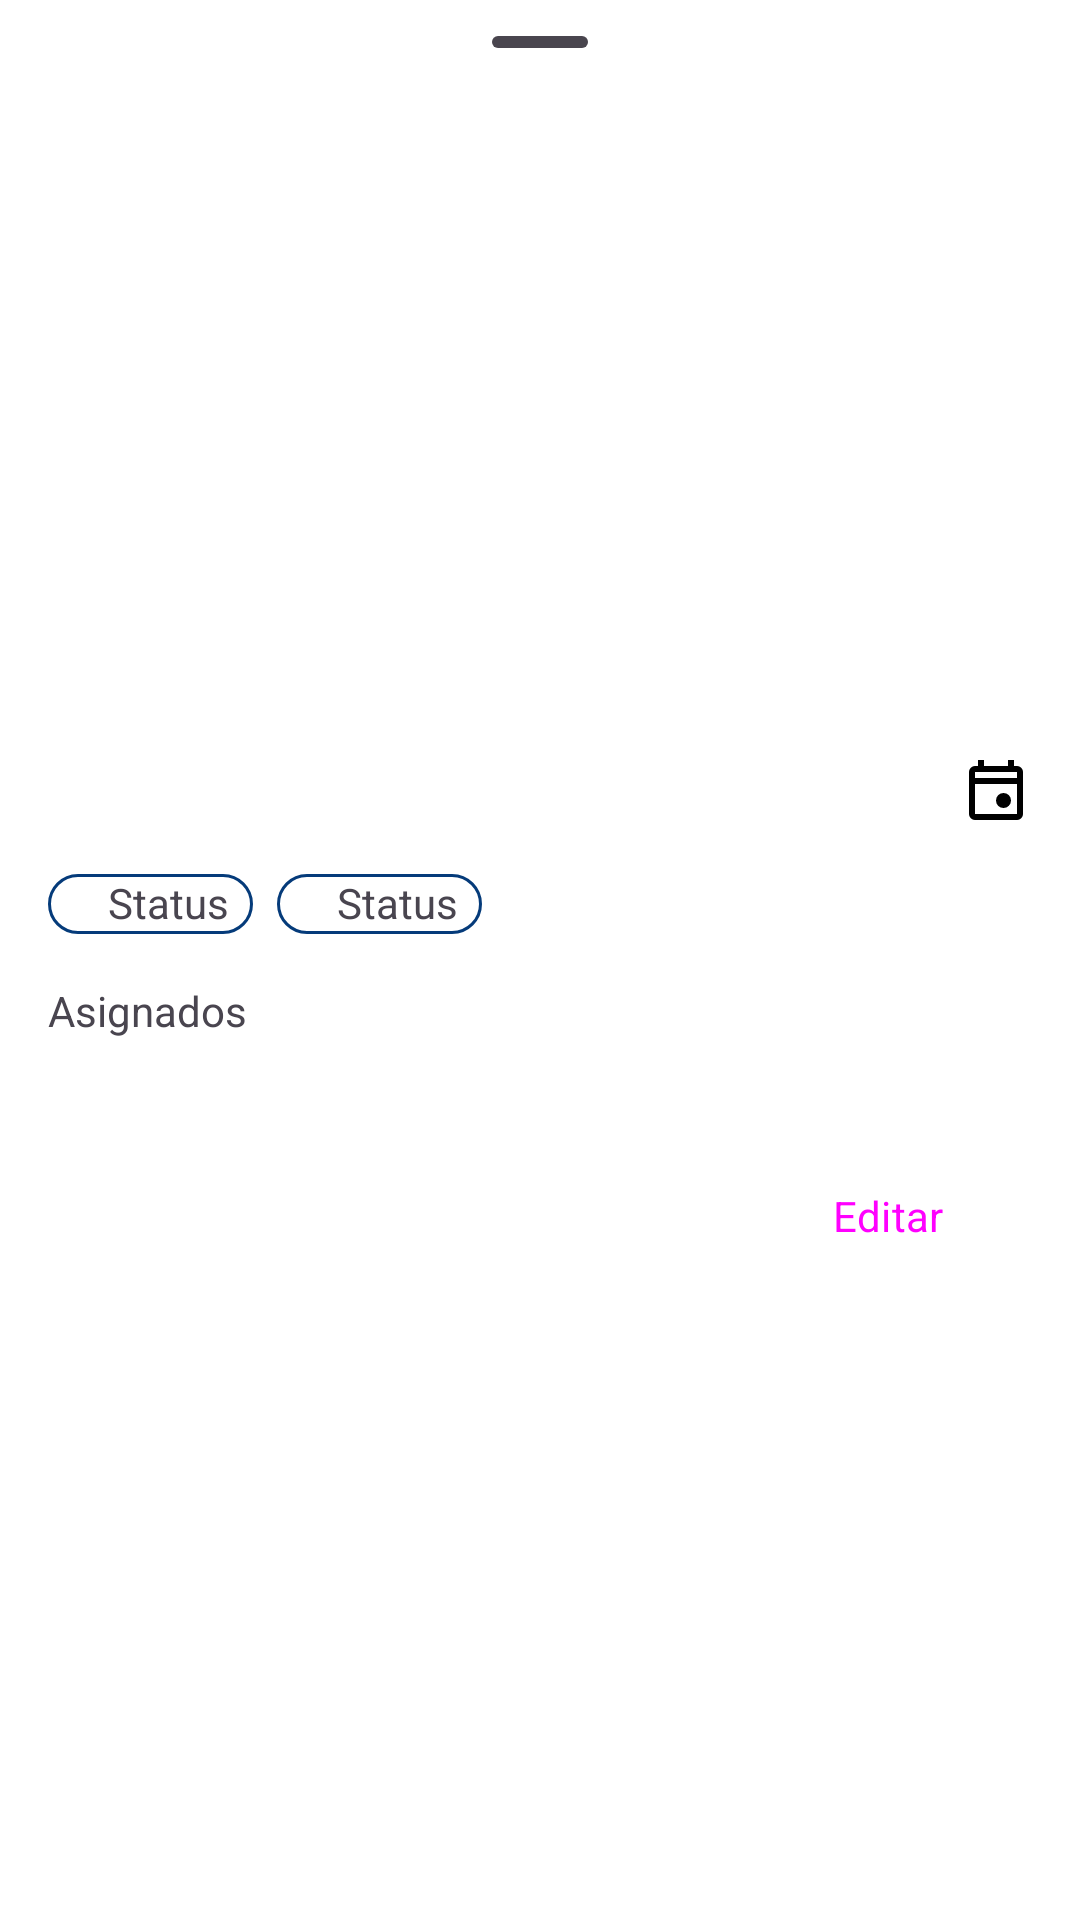

Icon bounding boxes for this 1080*1920 phone screenshot, format (x1, y1, x2, y2):
event: (969, 760, 1023, 820)
